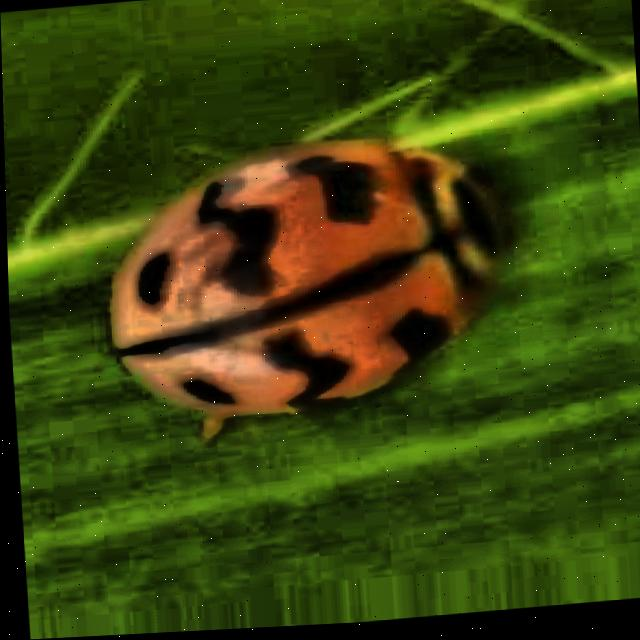Asian-Lady-beetle: (43, 46, 640, 488)
